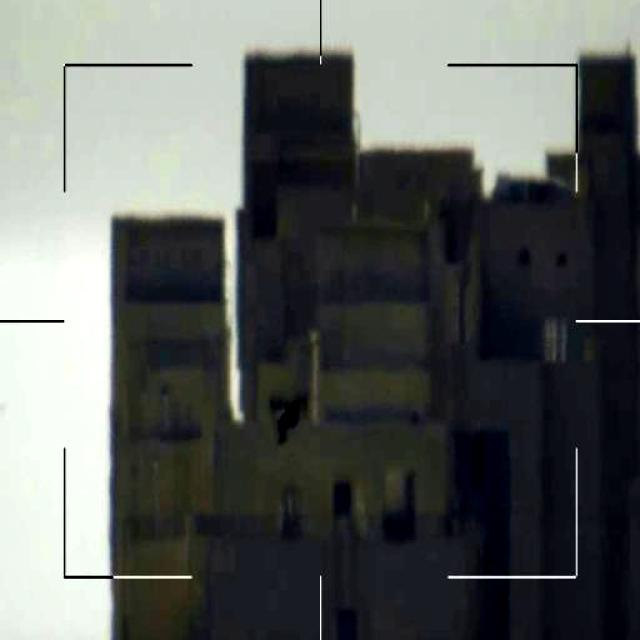bird: (261, 380, 312, 454)
